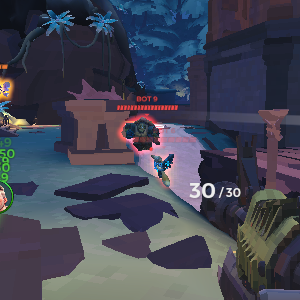model: (118, 114, 159, 152), (151, 155, 176, 188), (1, 76, 14, 104)
